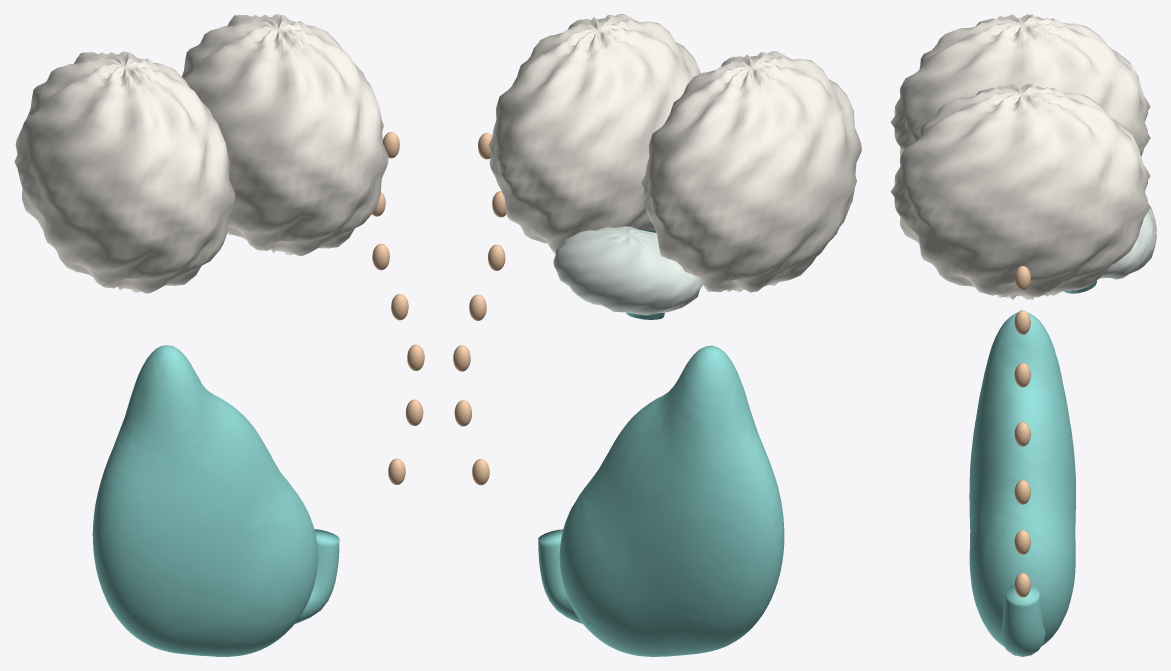
Rendered from metabolism-appetite.glb.
3 views of the same model, side by side, from view 1: azimuth 30°, elevation 25°; view 2: azimuth 150°, elevation 25°; view 3: azimuth 270°, elevation 25° (orthographic). The views are drawn at different scales.
Parts seen in each view (by area): view 1: static #eee5d3, static #49bdb4, static #f2a066; view 2: static #eee5d3, static #49bdb4, static #c7ddd2, static #f2a066; view 3: static #eee5d3, static #49bdb4, static #f2a066, static #c7ddd2.
Boxes of the visible parts, x1=… form: static #eee5d3: x1=14, y1=14, x2=388, y2=293; static #49bdb4: x1=92, y1=345, x2=339, y2=656; static #f2a066: x1=372, y1=132, x2=424, y2=484; static #eee5d3: x1=488, y1=14, x2=861, y2=292; static #49bdb4: x1=538, y1=230, x2=784, y2=656; static #c7ddd2: x1=553, y1=226, x2=702, y2=315; static #f2a066: x1=453, y1=133, x2=506, y2=485; static #eee5d3: x1=890, y1=14, x2=1150, y2=299; static #49bdb4: x1=969, y1=280, x2=1096, y2=656; static #f2a066: x1=1014, y1=266, x2=1030, y2=597; static #c7ddd2: x1=1100, y1=206, x2=1156, y2=279.
Size of the model in its own units: 0.2204 by 0.3383 by 0.1426.
